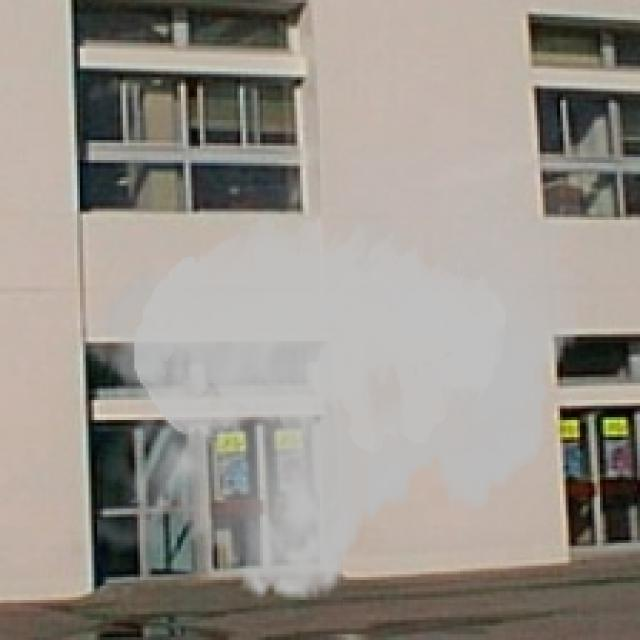smoke: (63, 54, 591, 623)
